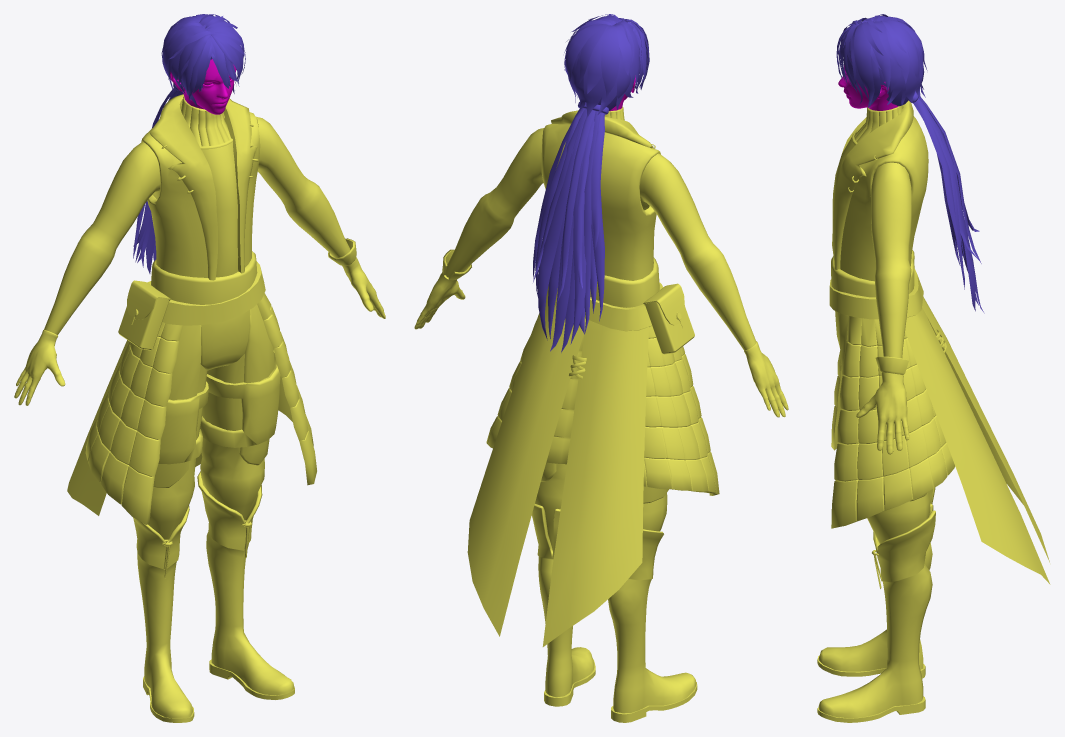
File: Male_Char_Costume_01.fbx
The picture shows the model from 3 angles, left to right: view 1: azimuth 30°, elevation 25°; view 2: azimuth 150°, elevation 25°; view 3: azimuth 270°, elevation 25°; orthographic projection.
Parts seen in each view (by area): view 1: Body, Hair, Head; view 2: Body, Hair; view 3: Body, Hair, Head.
Part boxes in pixels (x1,y1,x2,y2): Body: (14,94,385,722); Hair: (133,14,245,273); Head: (170,59,236,114); Body: (414,106,788,722); Hair: (533,14,649,352); Body: (817,100,1050,722); Hair: (836,14,984,313); Head: (838,65,897,110).
Size of the model in its own units: 99.52 by 176 by 55.31.
